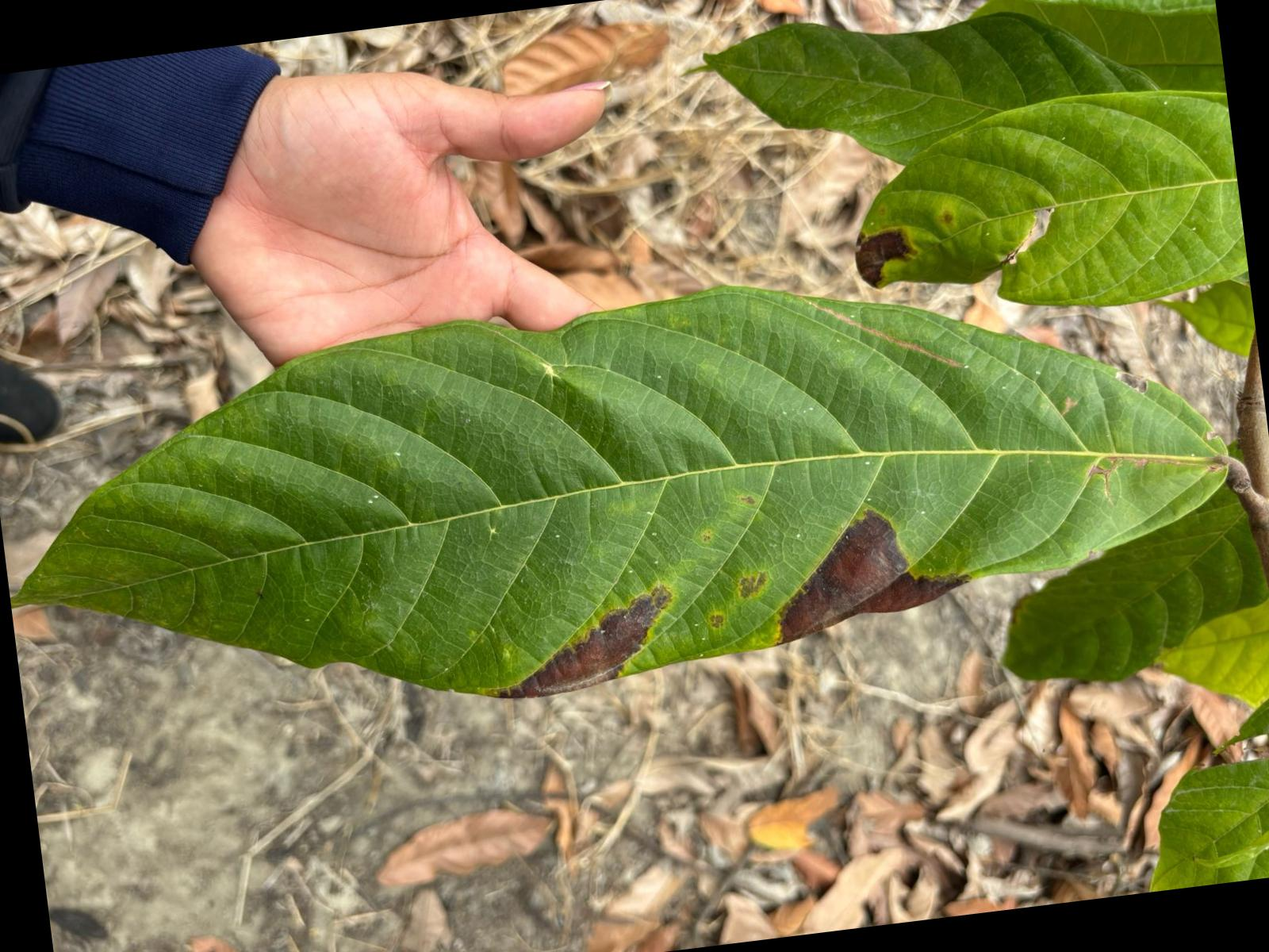Potasio: (11, 289, 1223, 697), (857, 90, 1248, 305)
